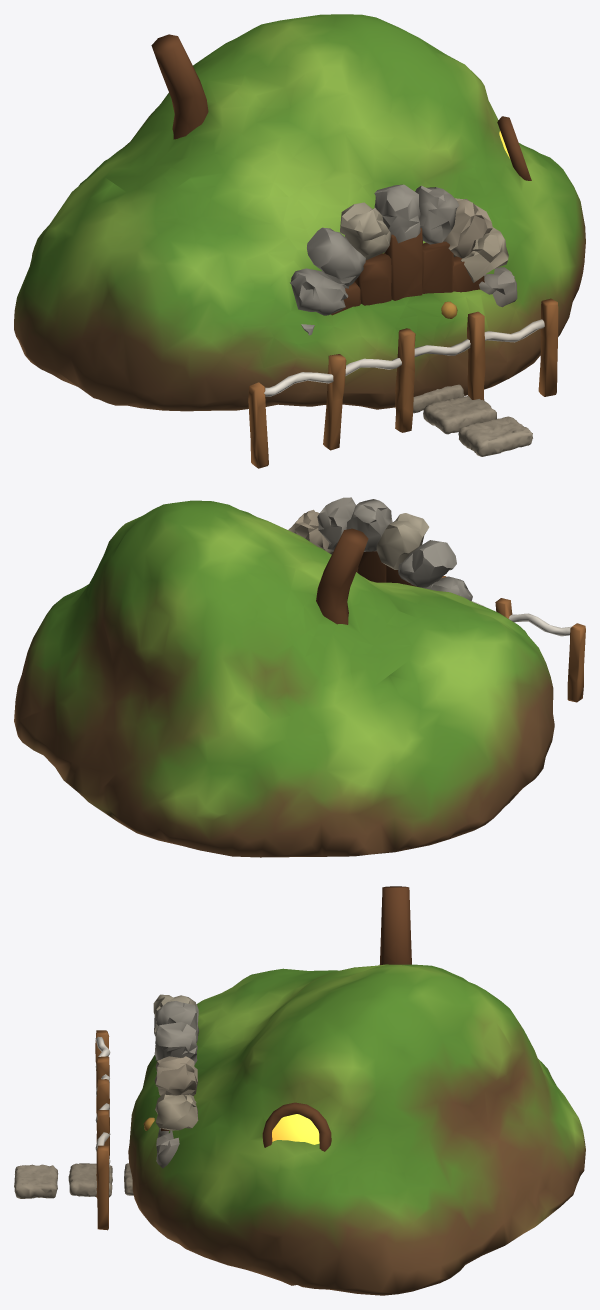
File: glade_warren_burrow_c.glb
3 views of the same model, one above another, from view 1: azimuth 30°, elevation 25°; view 2: azimuth 150°, elevation 25°; view 3: azimuth 270°, elevation 25° (orthographic). The views are drawn at different scales.
Visible parts, largest first — view 1: glade_warren_burrow_c; view 2: glade_warren_burrow_c; view 3: glade_warren_burrow_c.
Boxes of the visible parts, x1=… form: glade_warren_burrow_c: x1=14, y1=14, x2=585, y2=468; glade_warren_burrow_c: x1=14, y1=497, x2=585, y2=857; glade_warren_burrow_c: x1=14, y1=886, x2=585, y2=1295.
Size of the model in its own units: 7.46 by 4 by 8.2.
